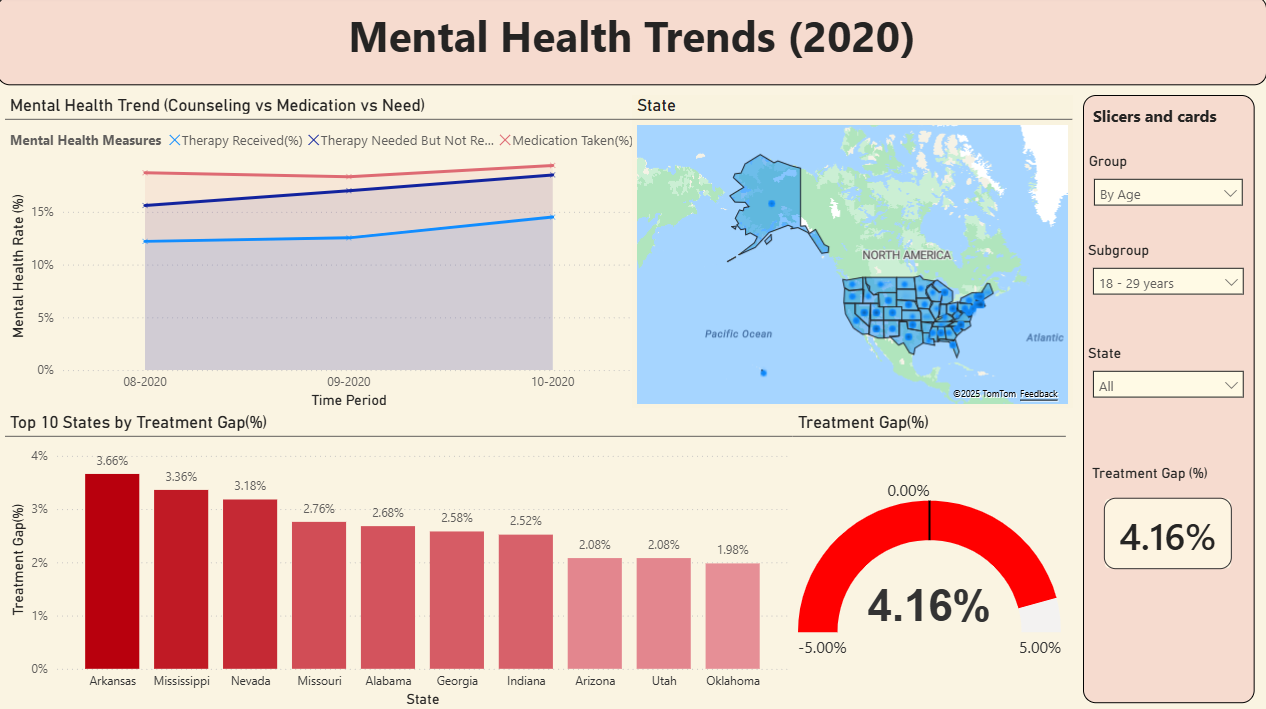

What the dashboard file says about the page in this screenshot:
{"tool":"powerbi","page":{"name":"Page 1","canvas":[1280,720],"ordinal":0},"visuals":[{"type":"lineChart","title":"Mental Health Trend (Counseling vs Medication vs Need)","fields":{"Category":["Calendar.YearMonth"],"Y":["Mental_Health_Care_in_the_Last_4_Weeks.TherapyReceived%","Mental_Health_Care_in_the_Last_4_Weeks.TherapyNeededButNotReceived%","Mental_Health_Care_in_the_Last_4_Weeks.MedicationTaken%"]},"box":[8.1,99.7,639.2,319.6],"z":0},{"type":"slicer","title":"State Filter","fields":{"Values":["Mental_Health_Care_in_the_Last_4_Weeks.State"]},"box":[1094.2,286.9,173.1,82.5],"z":1000},{"type":"slicer","title":"Group Filter","fields":{"Values":["Mental_Health_Care_in_the_Last_4_Weeks.Group"]},"box":[1094.2,99.9,170.7,82.5],"z":2000},{"type":"slicer","title":"Subgroup Filter","fields":{"Values":["Mental_Health_Care_in_the_Last_4_Weeks.Subgroup"]},"box":[1094.2,191.7,173.1,84.8],"z":3000},{"type":"textbox","box":[0,0,1280,89.7],"z":4000},{"type":"azureMap","fields":{"Category":["Mental_Health_Care_in_the_Last_4_Weeks.State"]},"box":[640,99.9,443.7,314.8],"z":5000},{"type":"cardVisual","title":"Treatment Gap (%)","fields":{"Data":["Mental_Health_Care_in_the_Last_4_Weeks.Treatment Gap(%)"]},"box":[1077.9,414.7,189.3,146.4],"z":6000},{"type":"clusteredColumnChart","title":"Top 10 States by Treatment Gap(%)","fields":{"Category":["Mental_Health_Care_in_the_Last_4_Weeks.State"],"Y":["Mental_Health_Care_in_the_Last_4_Weeks.Treatment Gap(%)"]},"box":[8.1,419.3,794.5,300.8],"z":7000},{"type":"gauge","fields":{"Y":["Mental_Health_Care_in_the_Last_4_Weeks.Treatment Gap(%)"]},"box":[802.3,419.3,275.1,285.2],"z":8000}]}

Visuals, with their boxes in screenshot pixels (x1, y1, x2, y2), scaled from the page's 1280x720 canvas onto the 1266x709 screenshot:
"Mental Health Trend (Counseling vs Medication vs Need)" lineChart: <box>8,98,640,413</box>
"State Filter" slicer: <box>1082,283,1253,364</box>
"Group Filter" slicer: <box>1082,98,1251,180</box>
"Subgroup Filter" slicer: <box>1082,189,1253,272</box>
textbox: <box>0,0,1265,88</box>
azureMap - Mental_Health_Care_in_the_Last_4_Weeks.State: <box>633,98,1072,408</box>
"Treatment Gap (%)" cardVisual: <box>1066,408,1253,553</box>
"Top 10 States by Treatment Gap(%)" clusteredColumnChart: <box>8,413,794,708</box>
gauge - Mental_Health_Care_in_the_Last_4_Weeks.Treatment Gap(%): <box>794,413,1066,694</box>
